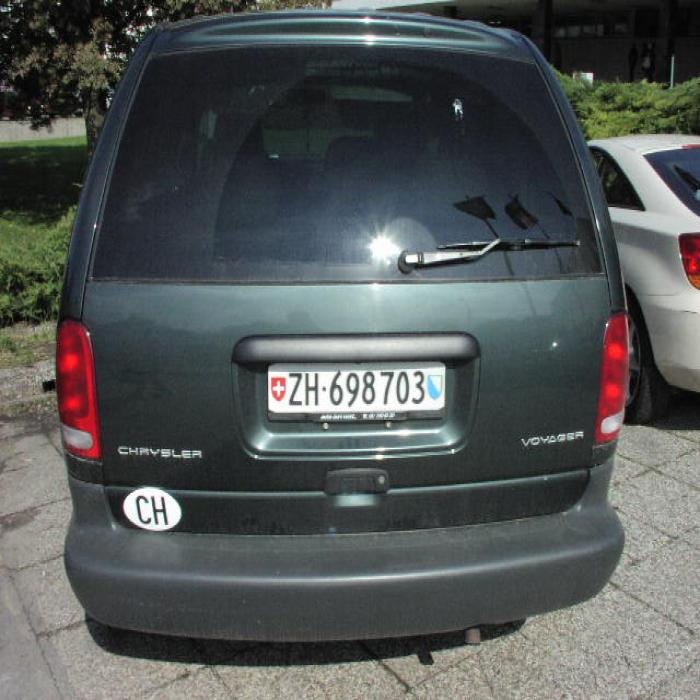number_plate: (267, 362, 444, 410)
